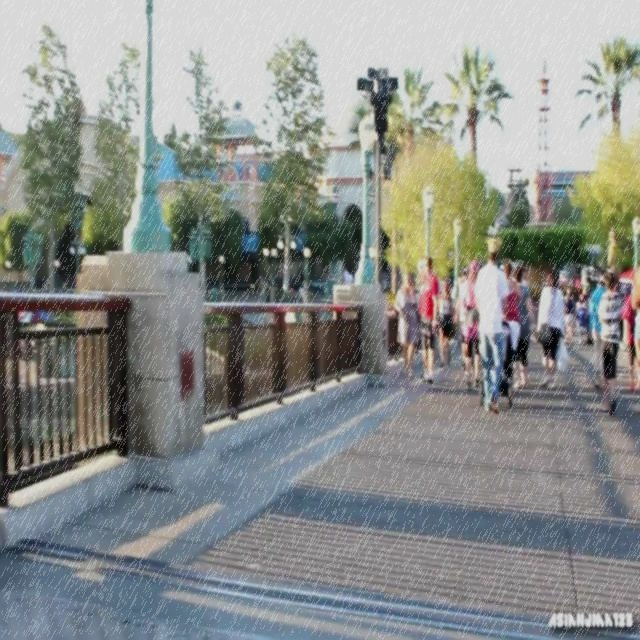pessoa: (473, 236, 511, 416), (596, 269, 624, 417), (536, 268, 566, 391), (508, 265, 536, 388), (418, 256, 440, 385), (462, 256, 483, 391), (400, 270, 420, 378), (590, 272, 608, 390), (620, 281, 638, 392), (452, 266, 470, 371), (392, 274, 410, 374), (436, 274, 454, 370), (501, 258, 520, 320), (630, 282, 640, 390), (573, 292, 587, 346), (258, 262, 278, 288), (342, 262, 356, 292), (564, 288, 574, 315), (414, 262, 426, 284), (381, 276, 389, 294), (457, 270, 463, 292)
